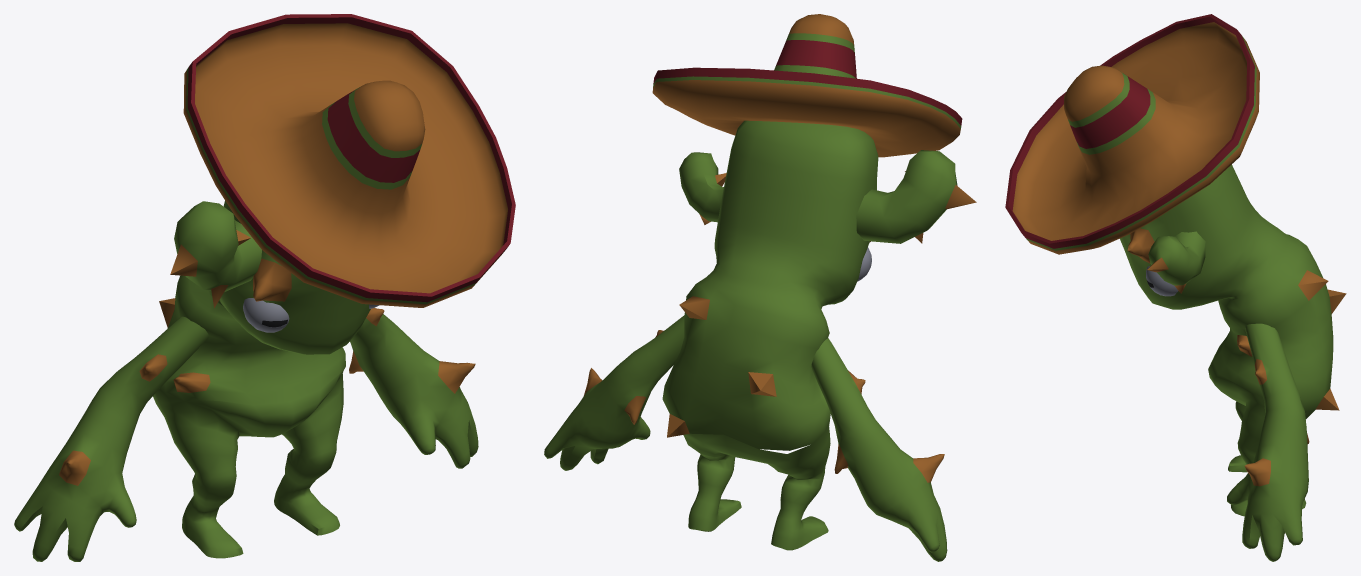
Rendered from q_cactoro_2.glb.
3 renders of one model, left to right at view 1: azimuth 30°, elevation 25°; view 2: azimuth 150°, elevation 25°; view 3: azimuth 270°, elevation 25°, orthographic. The views are drawn at different scales.
Visible parts, largest first — view 1: Cactoro_b; view 2: Cactoro_b; view 3: Cactoro_b.
Part boxes in pixels (x1,y1,x2,y2): Cactoro_b: [14, 14, 515, 561]; Cactoro_b: [544, 14, 976, 561]; Cactoro_b: [1005, 14, 1346, 561].
Bounding box in the file's own units: 0.9038 × 1 × 0.7018.
